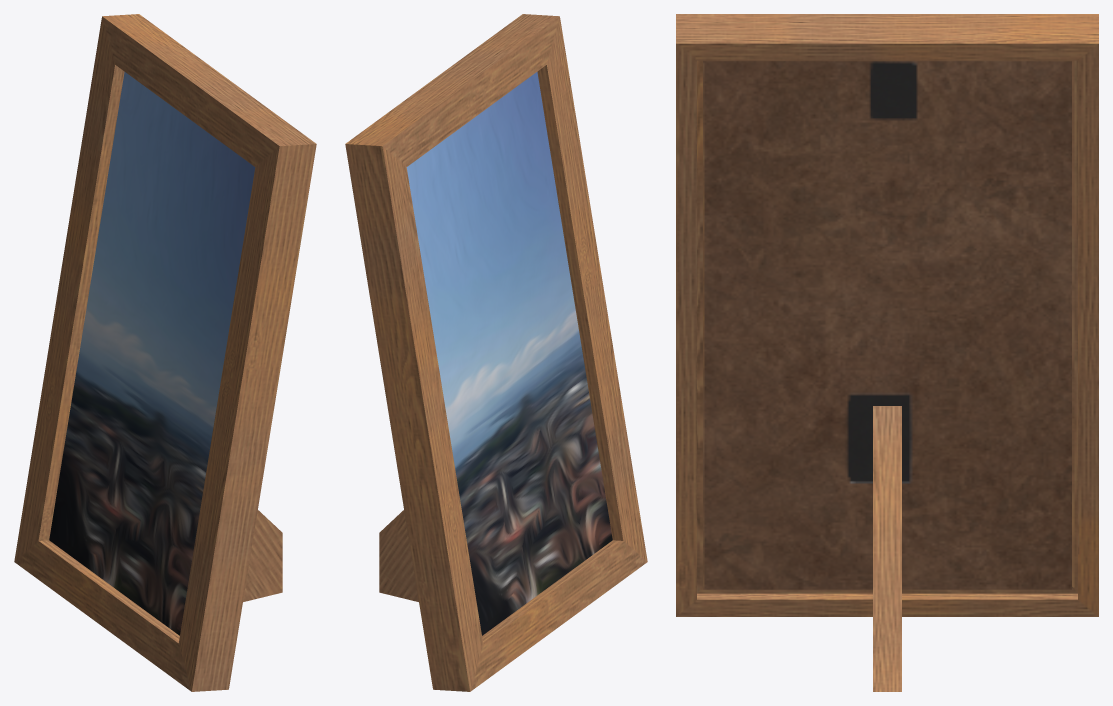
The model's file is SM_Photo_04.fbx.
3 renders of one model, left to right at view 1: azimuth 30°, elevation 25°; view 2: azimuth 150°, elevation 25°; view 3: azimuth 270°, elevation 25°, orthographic. The views are drawn at different scales.
Visible parts, largest first — view 1: SM_Photo_04_LOD0; view 2: SM_Photo_04_LOD0; view 3: SM_Photo_04_LOD0.
Part boxes in pixels (bbox=[...]): SM_Photo_04_LOD0: bbox=[14, 14, 316, 691]; SM_Photo_04_LOD0: bbox=[345, 14, 647, 691]; SM_Photo_04_LOD0: bbox=[676, 14, 1098, 691].
Bounding box in the file's own units: 8.03 × 14.24 × 23.5.
